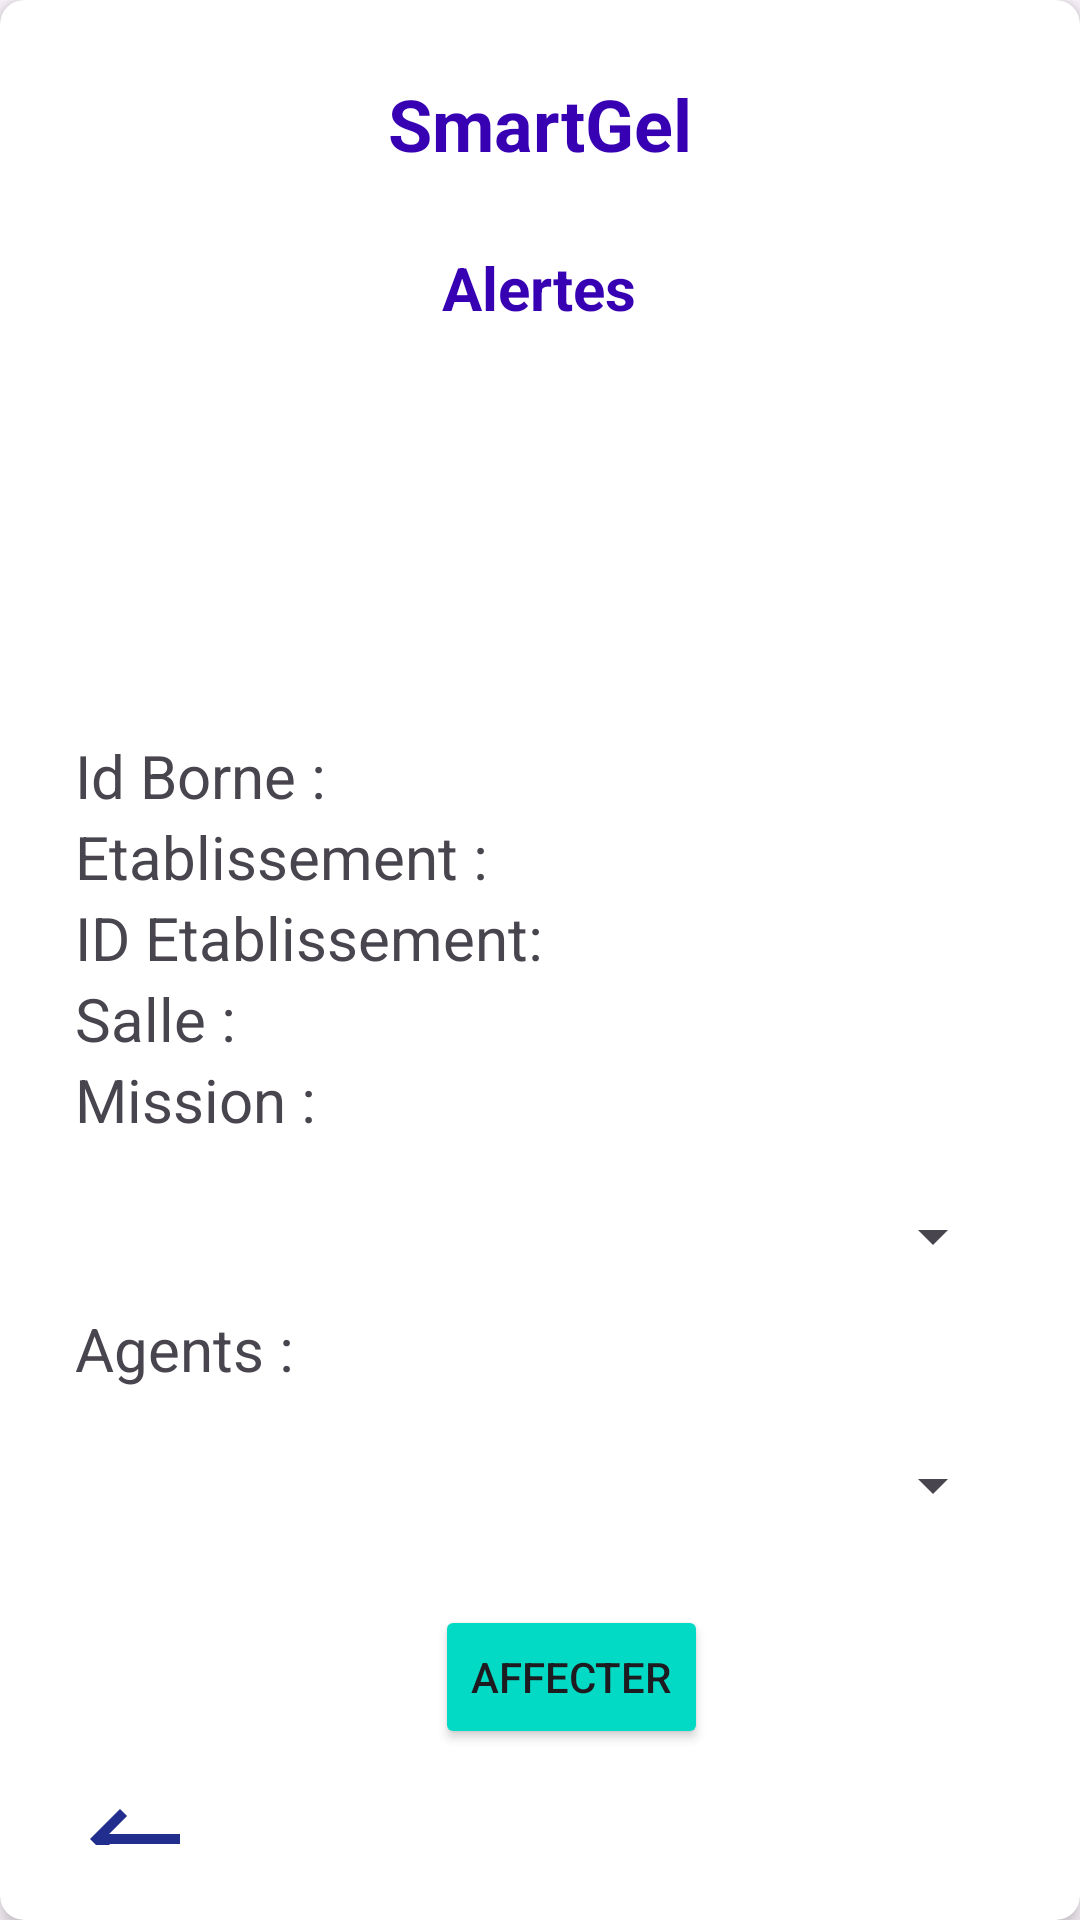

Screen size 1080w x 1920h. Icon name, then its box in pixels as (x1, y1, x2, y2):
back: (90, 1809, 180, 1845)
